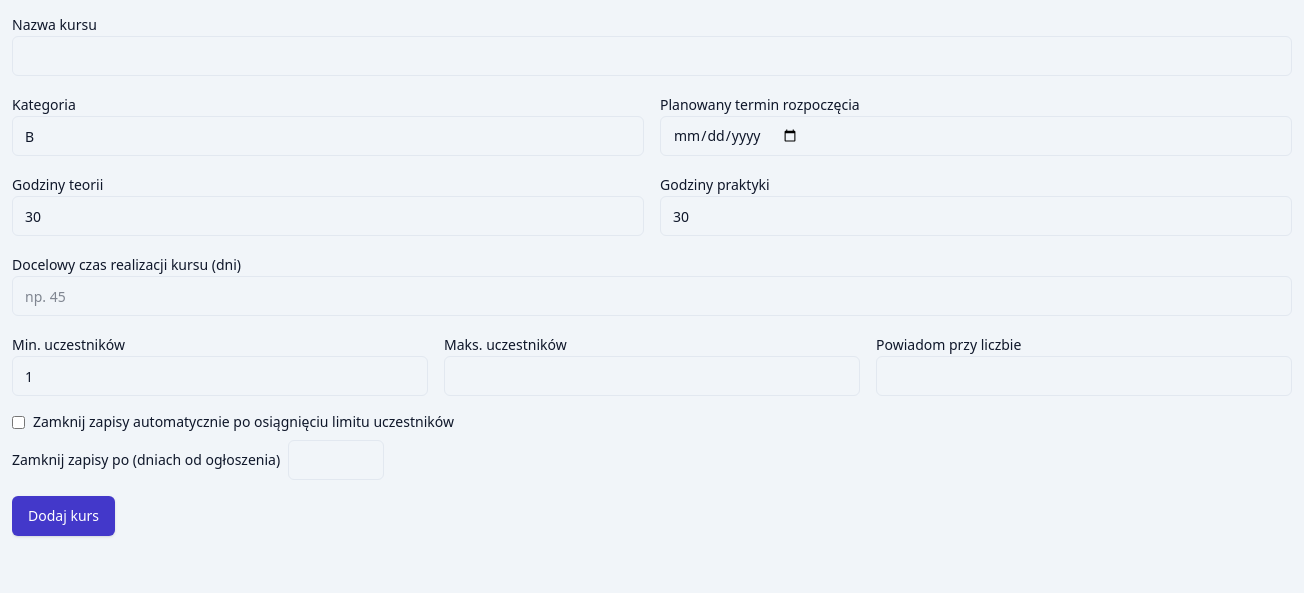
CourseForm (R2) › blokuje pustą nazwę
The width and height of the screenshot is (1304, 593).
Click the button "Dodaj kurs". click: {"x": 64, "y": 516}
box: [12,496,115,536]
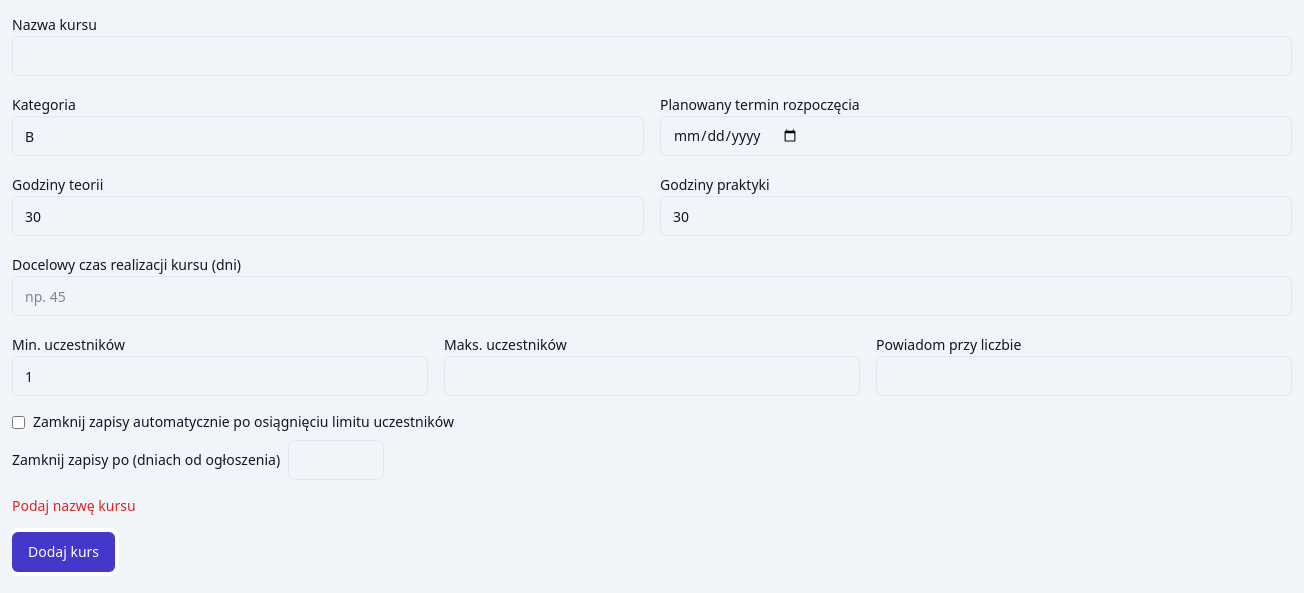
Now the text "Podaj nazwę kursu" is shown, box [12,496,136,515]
